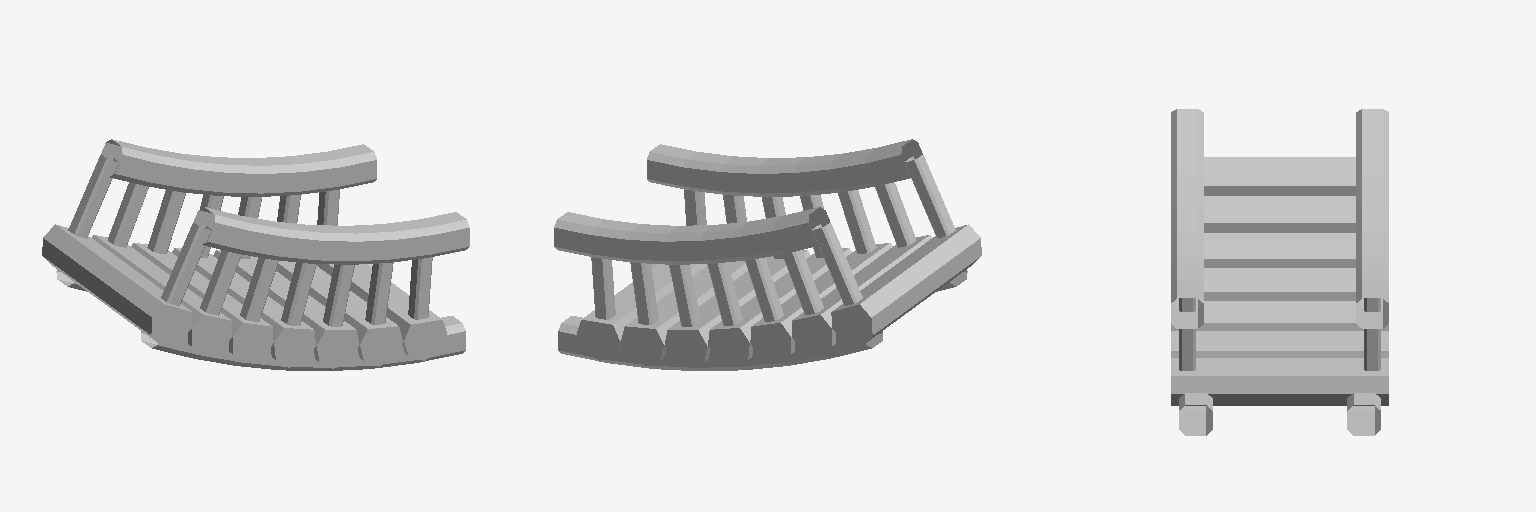
The model's file is Track_Bridge_Incline_Flat_Gentle_Floating.obj.
3 views of the same model, side by side, from view 1: azimuth 30°, elevation 25°; view 2: azimuth 150°, elevation 25°; view 3: azimuth 270°, elevation 25° (orthographic).
Visible parts, largest first — view 1: Bridge_Rail, Bridge_Rail_Support, Log_Plank_End, Log_Plank_Bark, Log_Plank_Top, Bridge_Support_Beam; view 2: Bridge_Rail, Bridge_Rail_Support, Log_Plank_End, Log_Plank_Bark, Log_Plank_Top, Bridge_Support_Beam; view 3: Log_Plank_Top, Log_Plank_Bark, Bridge_Rail, Bridge_Support_Beam, Bridge_Rail_Support.
Part boxes in pixels (x1,y1,x2,y2): Bridge_Rail: (101,139,469,264); Bridge_Rail_Support: (68,154,432,326); Log_Plank_End: (151,304,446,368); Log_Plank_Bark: (42,224,410,361); Log_Plank_Top: (57,225,441,329); Bridge_Support_Beam: (56,264,465,370); Bridge_Rail: (554,139,922,264); Bridge_Rail_Support: (591,154,955,326); Log_Plank_End: (577,304,872,368); Log_Plank_Bark: (613,224,981,361); Log_Plank_Top: (582,225,966,329); Bridge_Support_Beam: (558,264,967,370); Log_Plank_Top: (1171,157,1388,375); Log_Plank_Bark: (1171,186,1388,405); Bridge_Rail: (1171,109,1388,328); Bridge_Support_Beam: (1179,393,1380,435); Bridge_Rail_Support: (1179,298,1380,370).
Size of the model in its own units: 2.19 by 1.34 by 1.3.